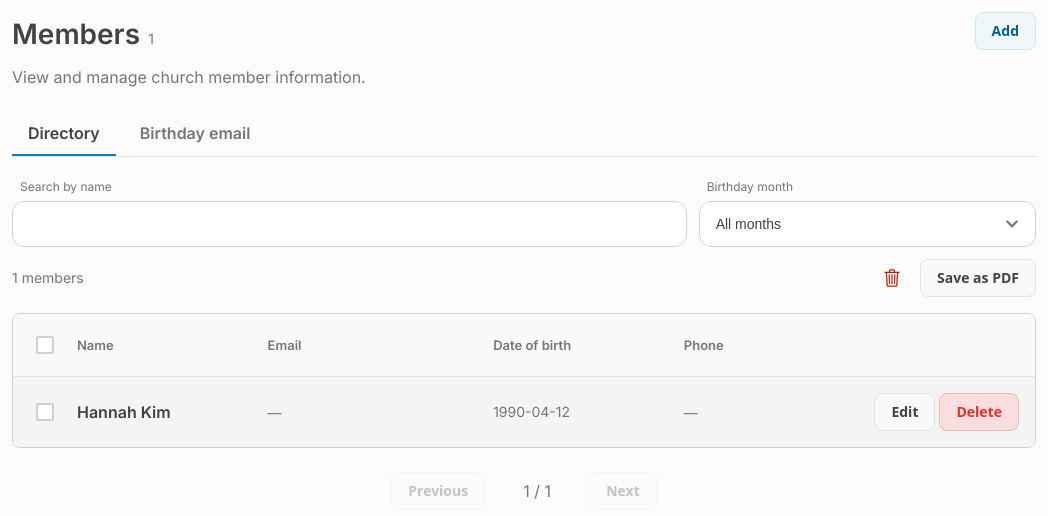
it: Members tabs › shows the member and birthday tabs to page_admin
Expected: the tab "Directory" is shown, [12, 113, 116, 156]
What coordinates should you click on to do the following:
click the tab "Birthday email"
I would click on:
 (195, 135)
Its box is [124, 113, 266, 156].
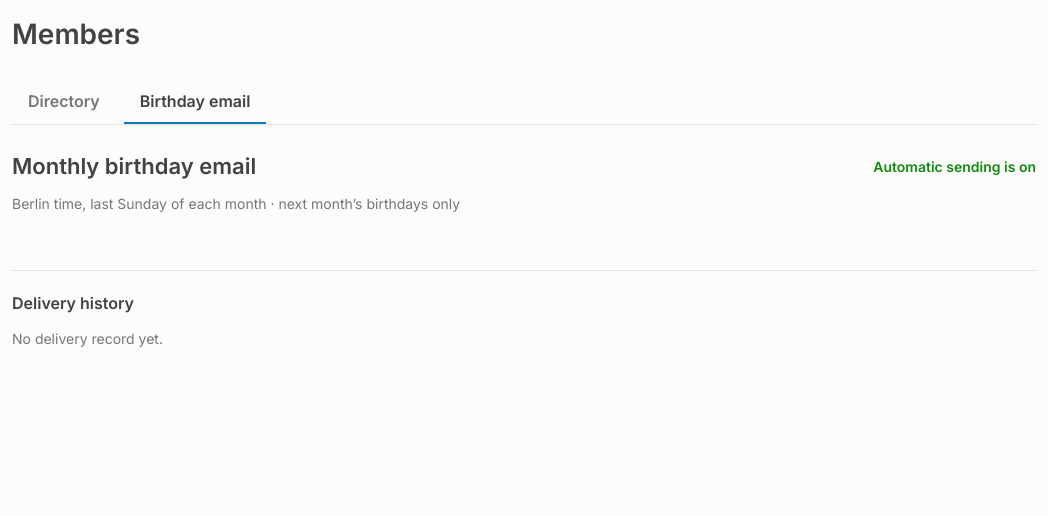
Now the text "Automatic sending is on" is shown, box [873, 156, 1036, 178]
